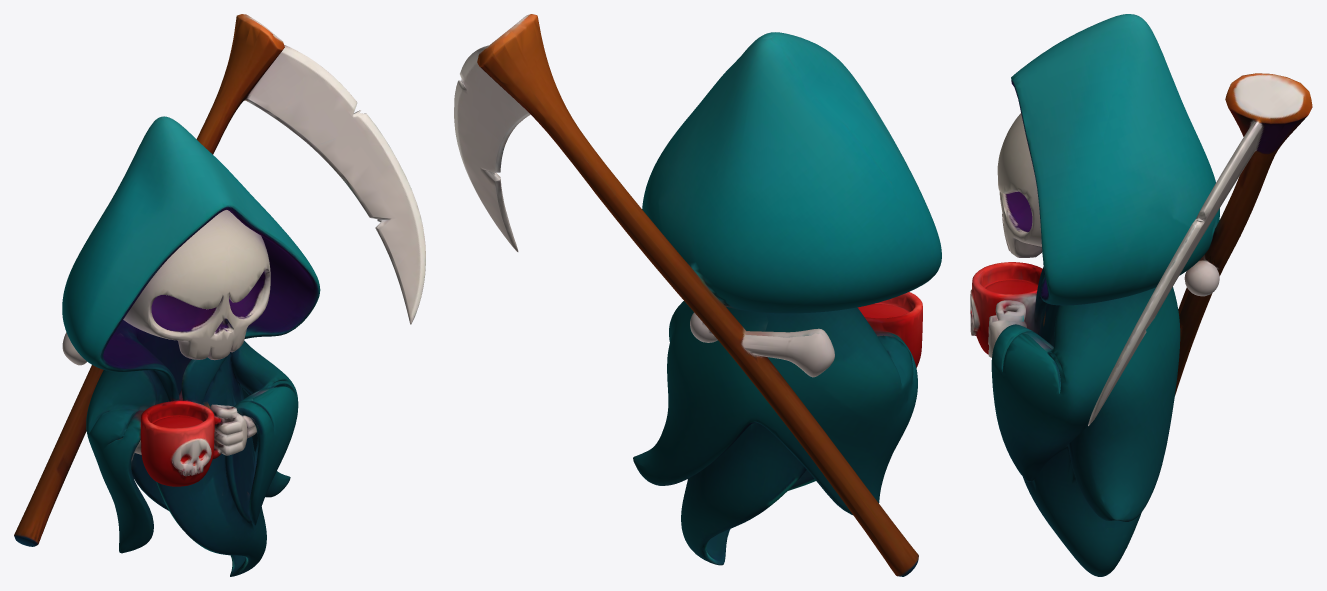
File: pixellabs-robot-3332.glb
The picture shows the model from 3 angles, left to right: view 1: azimuth 30°, elevation 25°; view 2: azimuth 150°, elevation 25°; view 3: azimuth 270°, elevation 25°; orthographic projection. The views are drawn at different scales.
Visible parts, largest first — view 1: material; view 2: material; view 3: material.
Part boxes in pixels (x1=…): material: x1=14, y1=14, x2=425, y2=576; material: x1=454, y1=14, x2=941, y2=576; material: x1=970, y1=14, x2=1312, y2=576.
Size of the model in its own units: 0.8709 by 1.02 by 0.5761.
Materials: 1 (1 with a texture image).
